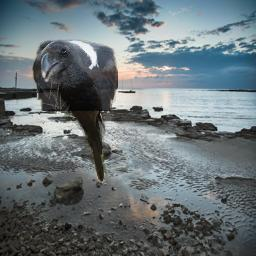Crow: (32, 39, 118, 111)
Cuckoo: (38, 42, 109, 185)
